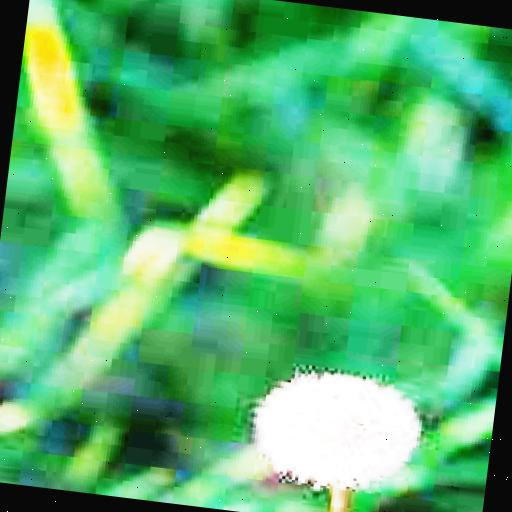dandelion: (260, 364, 427, 492)
